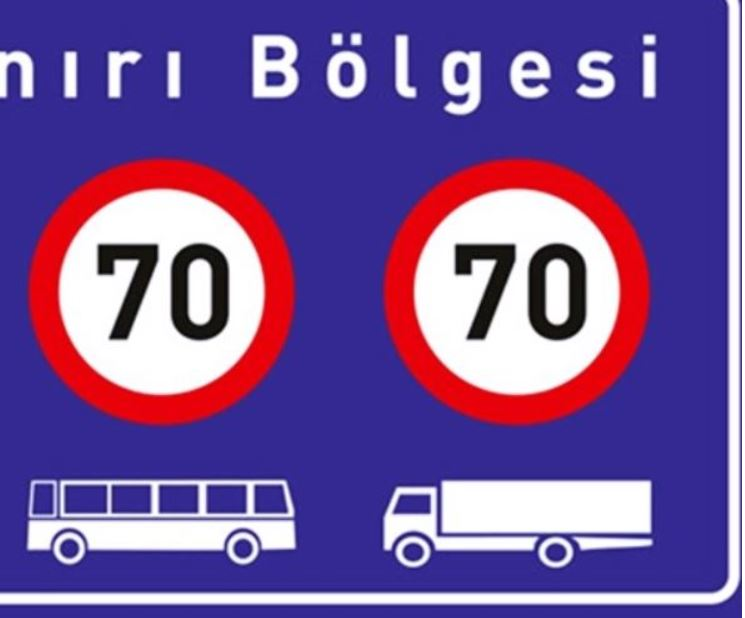70 Km Hiz Siniri: (385, 147, 653, 428), (26, 152, 291, 424)
